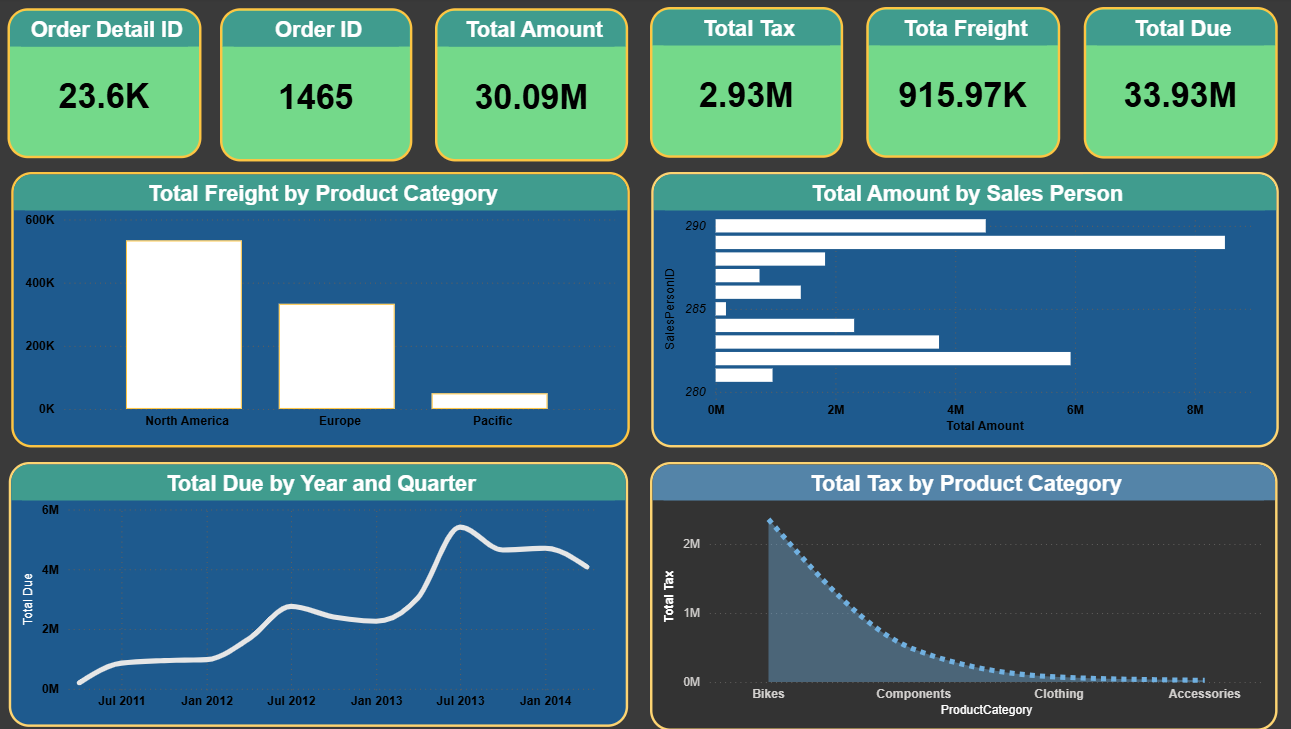

The dashboard page shown, as its layout file describes it:
{"tool":"powerbi","page":{"name":"Page 2","canvas":[1280,720],"ordinal":1},"visuals":[{"type":"card","title":"Order Detail ID","fields":{"Values":["Sales.#OrderDetail_ID"]},"box":[17.1,11.4,190,147.1],"z":0},{"type":"card","title":"Order ID","fields":{"Values":["Sales.#OrderID"]},"box":[225.7,11.4,188.6,150],"z":1000},{"type":"card","title":"Total Amount","fields":{"Values":["Sales.Total Amount"]},"box":[436.7,11.3,189.5,150.2],"z":2000},{"type":"card","title":"Total Tax","fields":{"Values":["Sales.Total Tax"]},"box":[647.7,10.4,189.5,147.8],"z":3000},{"type":"card","title":"Total Due","fields":{"Values":["Sales.Total Due"]},"box":[1073.7,9.7,190,148.6],"z":4000},{"type":"card","title":"Tota Freight","fields":{"Values":["Measures (2).Total Freight"]},"box":[860,10,190,148],"z":5000},{"type":"clusteredColumnChart","title":"Total Freight by Product Category","fields":{"Y":["Measures (2).Total Freight"],"Category":["Sales.TerritoryGroup"]},"box":[21.4,171.4,607.1,270],"z":6000},{"type":"lineChart","fields":{"Y":["Measures (2).Total Due"],"Category":["Sales.DueDate.Variation.Date Hierarchy.Year","Sales.DueDate.Variation.Date Hierarchy.Quarter"]},"box":[18,456,608,260],"z":7000},{"type":"clusteredBarChart","title":"Total Amount by Sales Person","fields":{"Y":["Measures (2).Total Amount"],"Category":["Sales.SalesPersonID"]},"box":[648.6,171.4,615.7,270],"z":8000},{"type":"areaChart","title":"Total Tax by Product Category","fields":{"Y":["Measures (2).Total Tax"],"Category":["Sales.ProductCategory"]},"box":[648,456,616,264],"z":8001}]}

Visuals, with their boxes in screenshot pixels (x1, y1, x2, y2), scaled from the page's 1280x720 canvas onto the 1291x729 screenshot:
"Order Detail ID" card: bbox=[17, 12, 209, 160]
"Order ID" card: bbox=[228, 12, 418, 163]
"Total Amount" card: bbox=[440, 11, 632, 164]
"Total Tax" card: bbox=[653, 11, 844, 160]
"Total Due" card: bbox=[1083, 10, 1275, 160]
"Tota Freight" card: bbox=[867, 10, 1059, 160]
"Total Freight by Product Category" clusteredColumnChart: bbox=[22, 174, 634, 447]
lineChart - Measures (2).Total Due x Sales.DueDate.Variation.Date Hierarchy.Year: bbox=[18, 462, 631, 725]
"Total Amount by Sales Person" clusteredBarChart: bbox=[654, 174, 1275, 447]
"Total Tax by Product Category" areaChart: bbox=[654, 462, 1275, 728]
